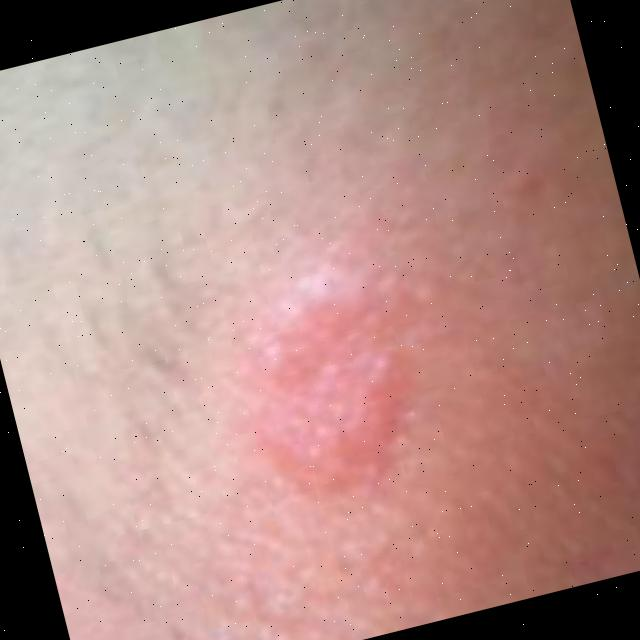sinek: (109, 201, 529, 571)
